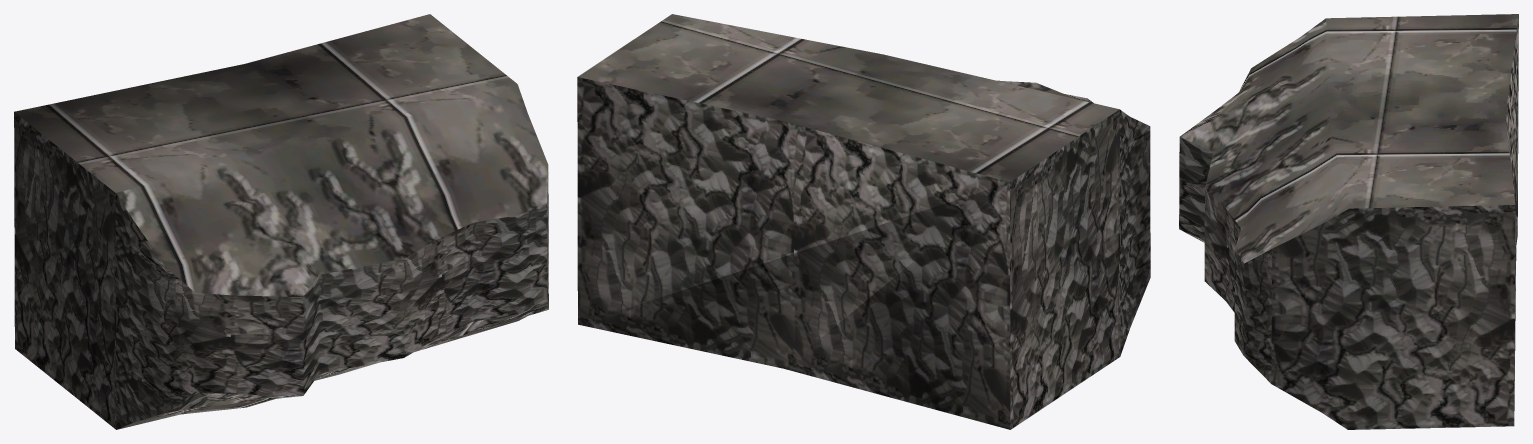
The model's file is INST_SM_DEBRIS_BLOCK_SMALLC.fbx.
3 renders of one model, left to right at view 1: azimuth 30°, elevation 25°; view 2: azimuth 150°, elevation 25°; view 3: azimuth 270°, elevation 25°, orthographic. The views are drawn at different scales.
Parts seen in each view (by area): view 1: INST_SM_DEBRIS_BLOCK_SMALLC; view 2: INST_SM_DEBRIS_BLOCK_SMALLC; view 3: INST_SM_DEBRIS_BLOCK_SMALLC.
Part boxes in pixels (x1,y1,x2,y2): INST_SM_DEBRIS_BLOCK_SMALLC: [14, 14, 548, 429]; INST_SM_DEBRIS_BLOCK_SMALLC: [577, 14, 1150, 429]; INST_SM_DEBRIS_BLOCK_SMALLC: [1179, 14, 1518, 429].
Size of the model in its own units: 32019 by 17884 by 24213.
3 materials, 3 textured.
